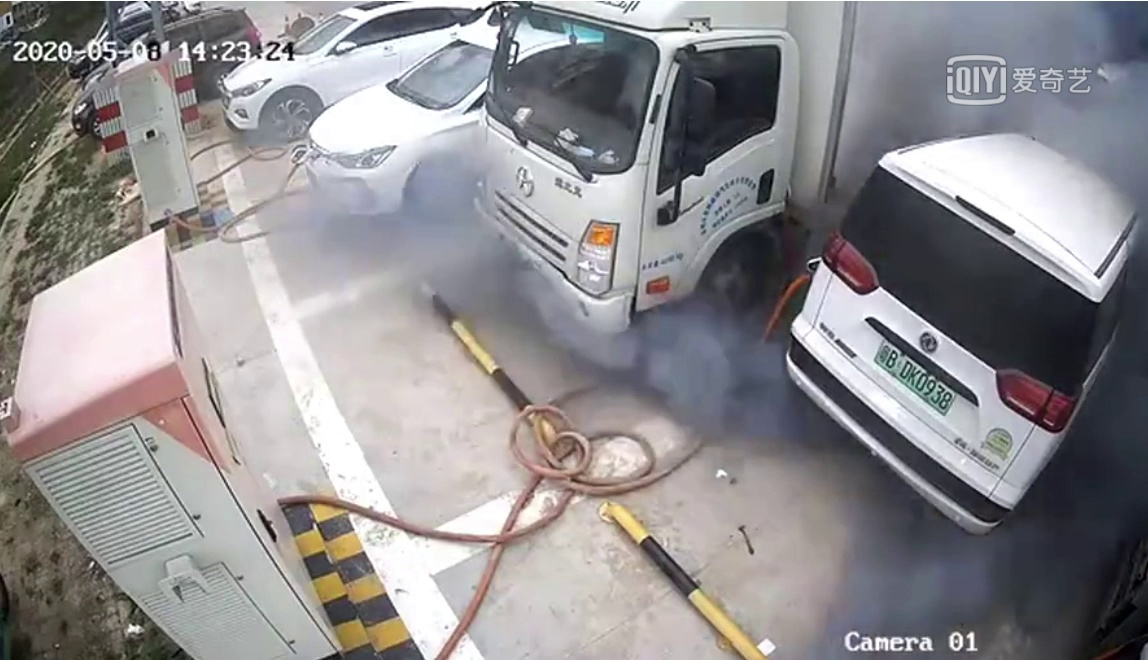smoke: (438, 237, 806, 449)
